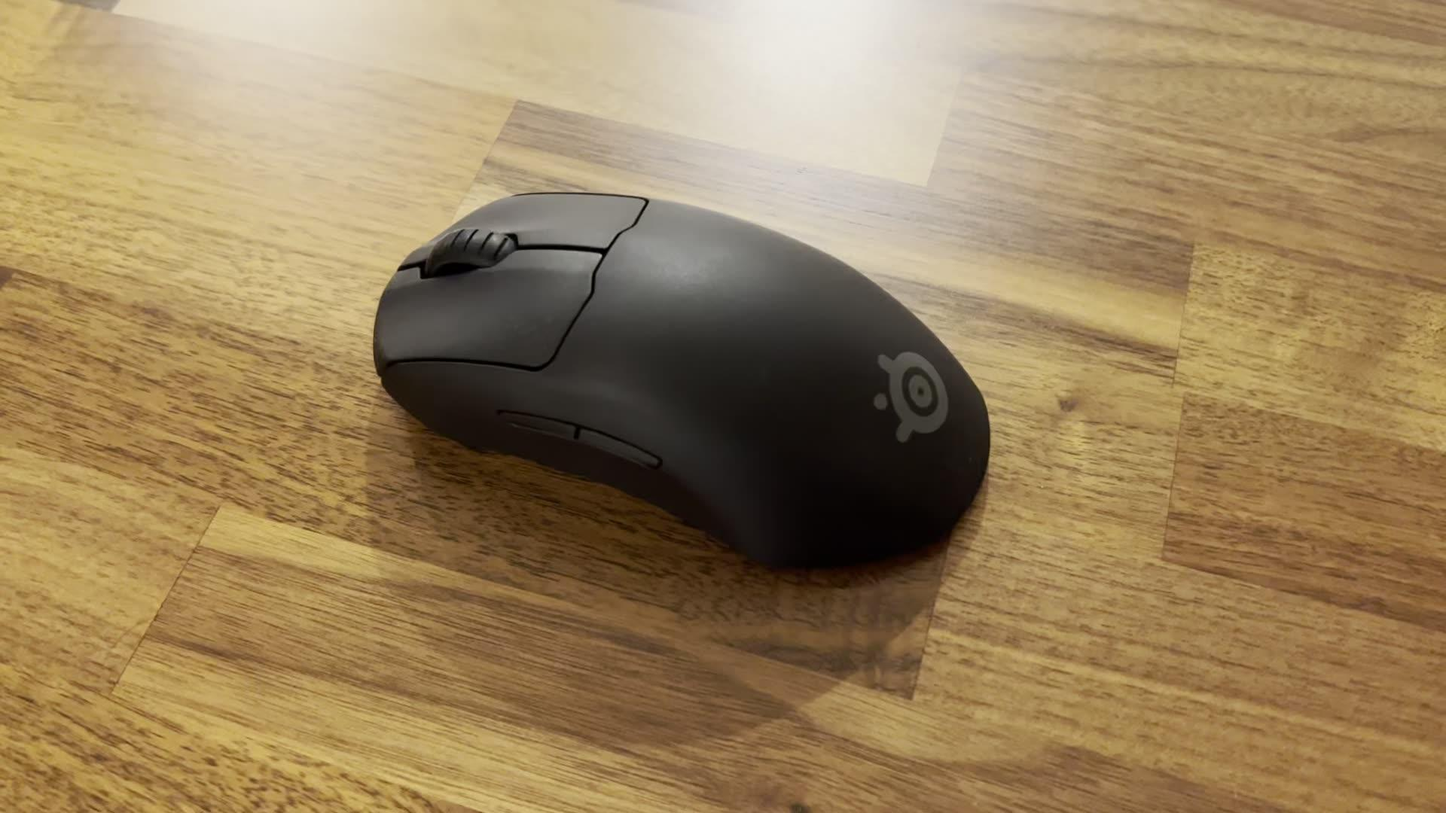mouse: (367, 179, 995, 582)
